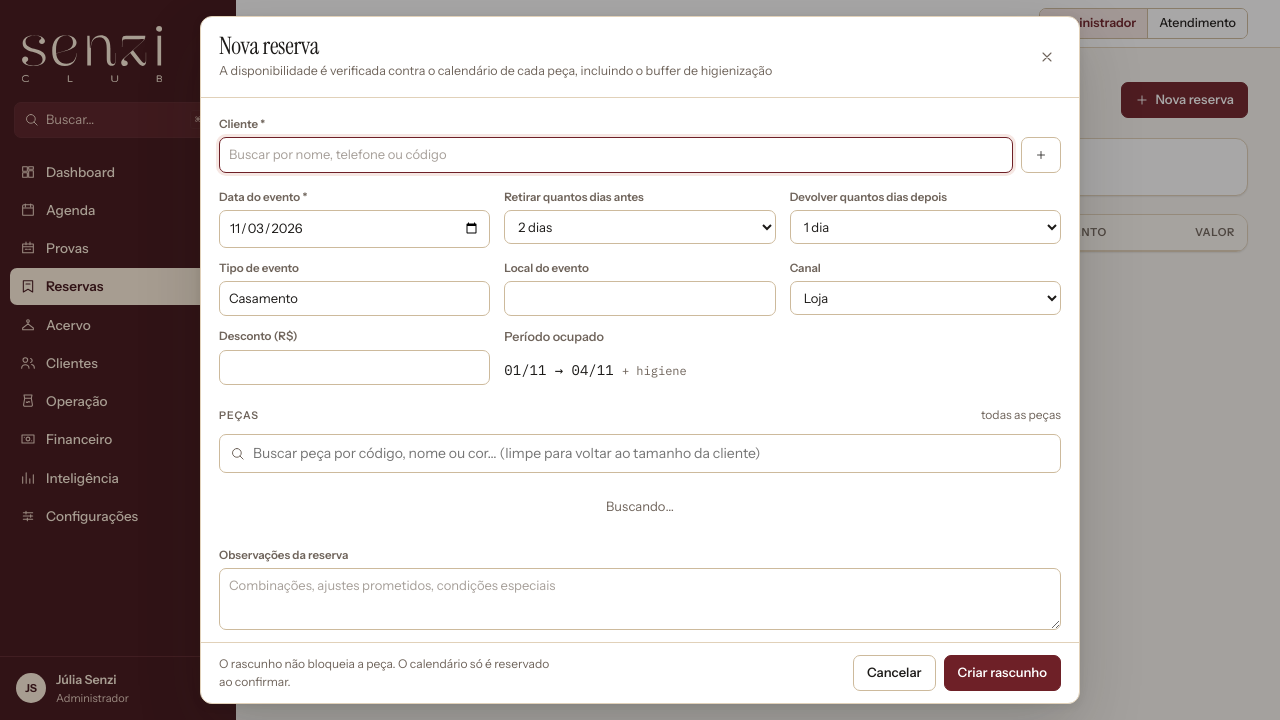
Reservas — nova reserva › lista os erros verbatim na caixa "Corrija antes de continuar:"
Type "-5" into the number field labelled "Desconto (R$)" at (355, 367), box [219,350,490,385]
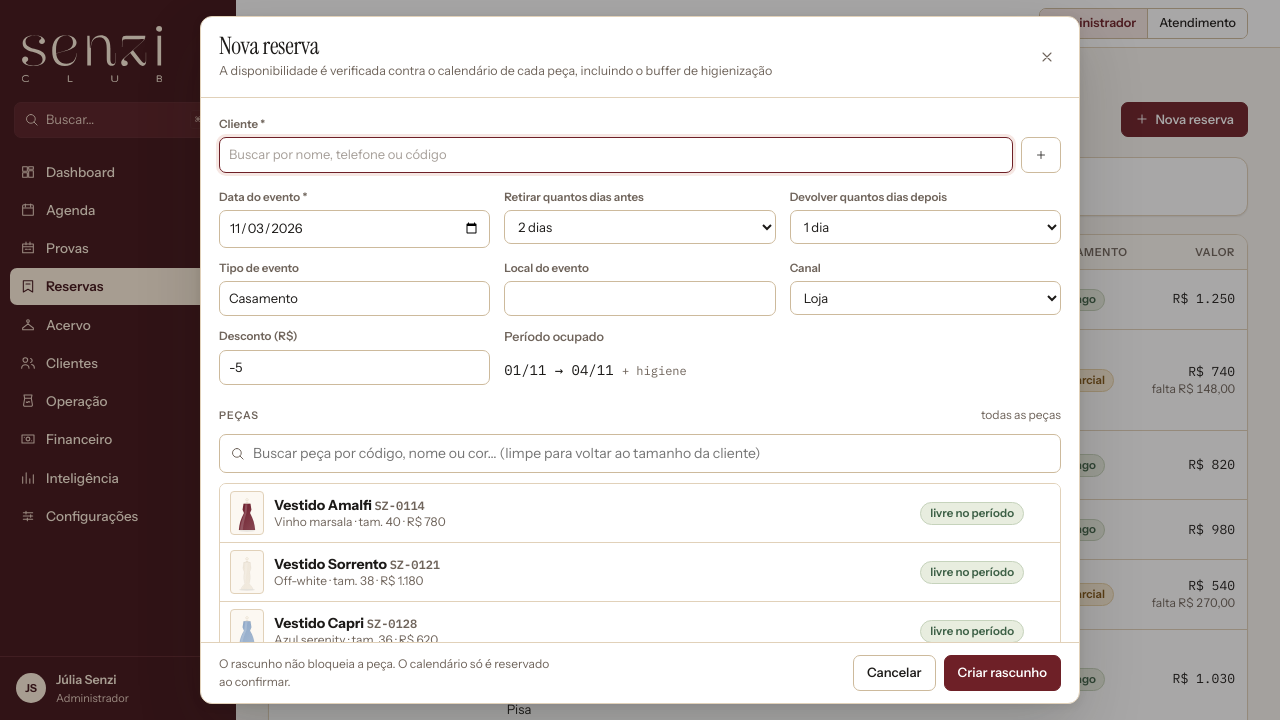
Click the button "Criar rascunho" at (1002, 673), box [944,655,1061,691]
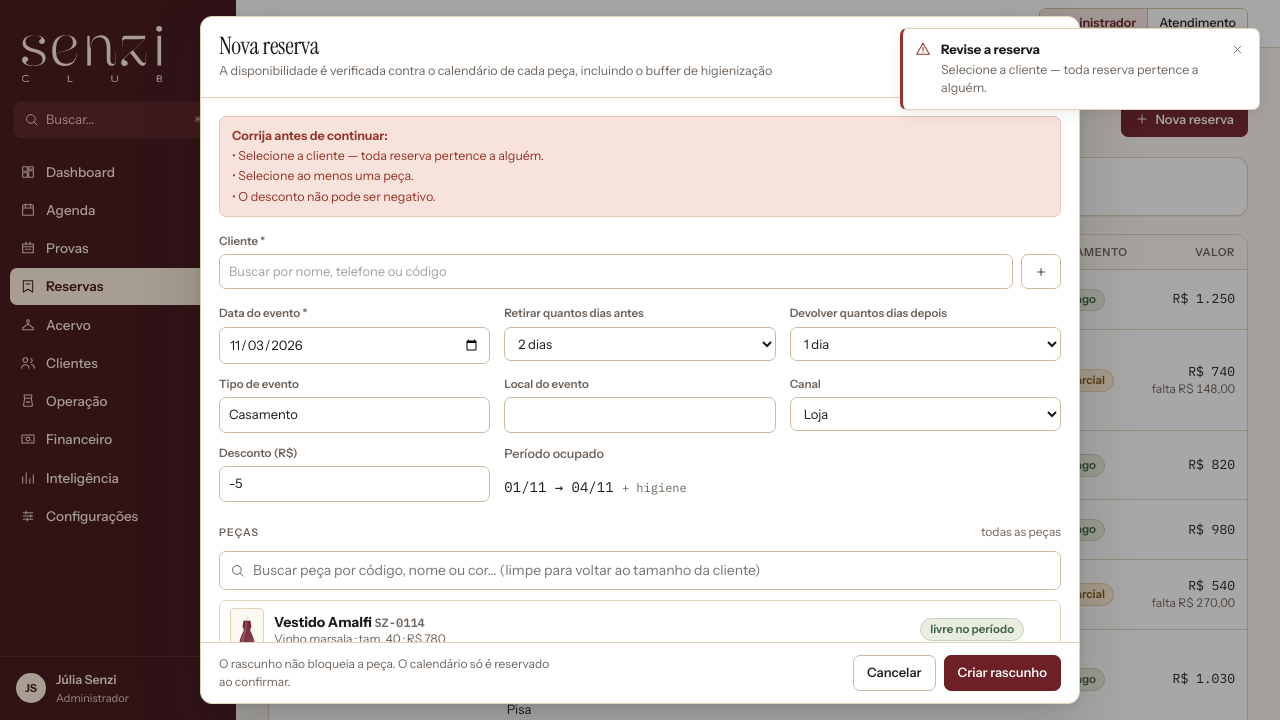
Now the text "Corrija antes de continuar:" shows "Selecione a cliente — toda reserva pertence a alguém.", box [238,148,544,163]
Now the text "Corrija antes de continuar:" shows "Selecione ao menos uma peça.", box [238,168,414,183]
Now the text "Corrija antes de continuar:" shows "O desconto não pode ser negativo.", box [238,188,436,204]
